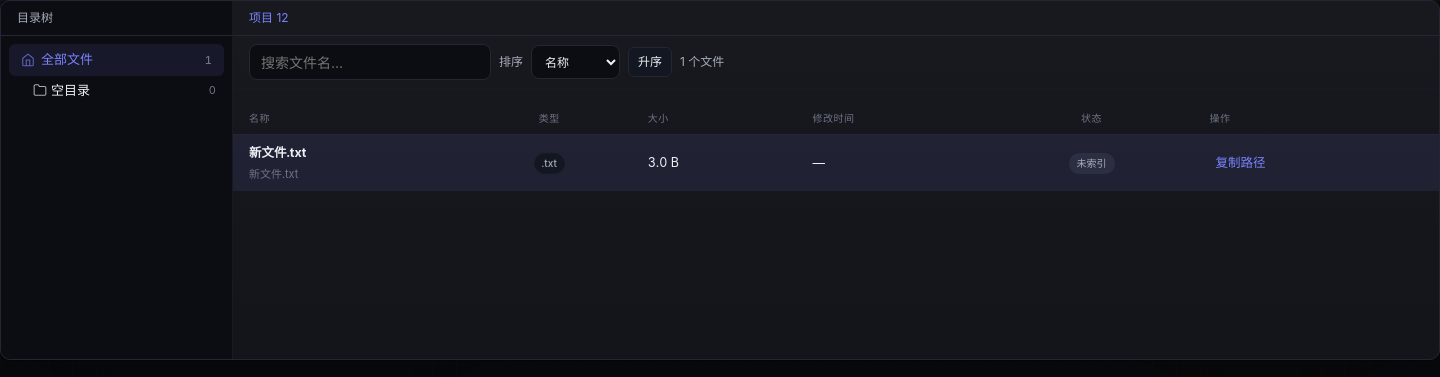
Phase 8 项目库与文件浏览 › 只筛选当前目录文件且保留目录树
The width and height of the screenshot is (1440, 377).
Expected: the text "新文件.txt" is shown 2 times, [249,145,306,160]; [249,167,298,181]
Type "不存在" into the search field named "搜索当前目录文件" at (370, 62), box [249,44,491,80]
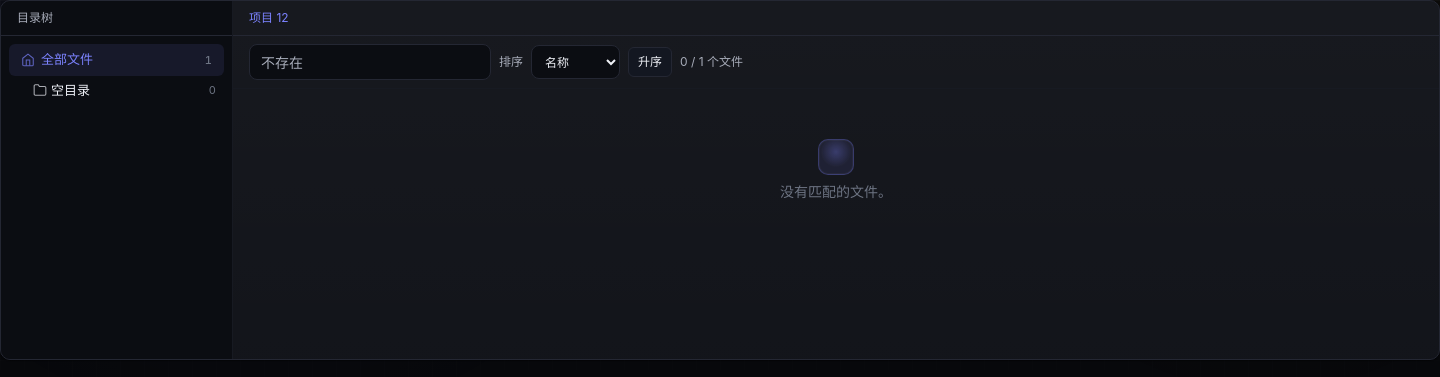
Expected: the text "空目录" is shown, [51,82,90,98]
Result: the text "没有匹配的文件。" is shown at [780,181,892,202]
